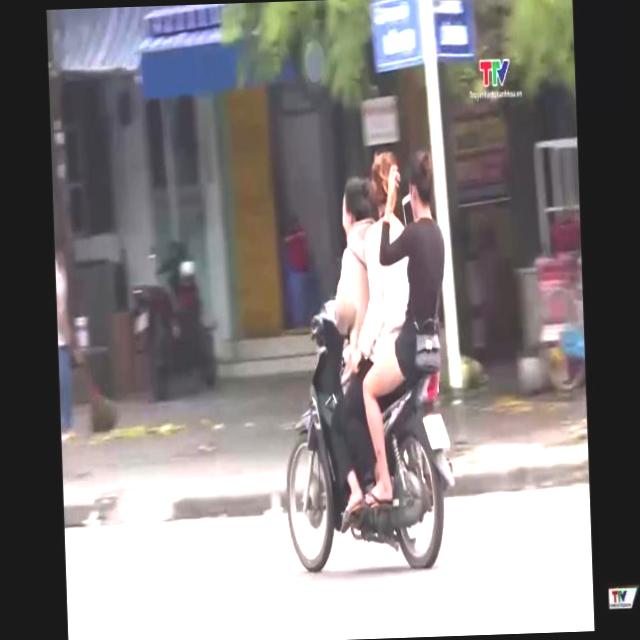motorcycle: (276, 292, 464, 583)
person: (360, 145, 428, 399), (390, 142, 451, 391), (323, 165, 392, 378)
rider_region: (266, 150, 456, 574)
